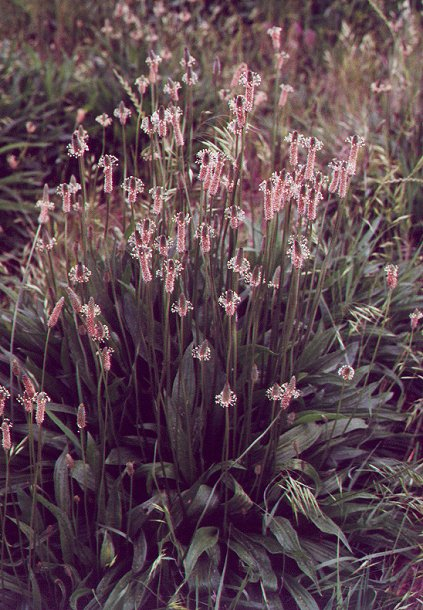buckhorn plantain: (40, 43, 343, 560)
